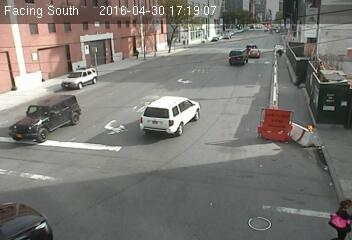neg: (204, 58, 231, 94), (134, 68, 156, 99), (235, 11, 257, 40)
pos: (327, 194, 351, 237), (274, 46, 284, 59)
